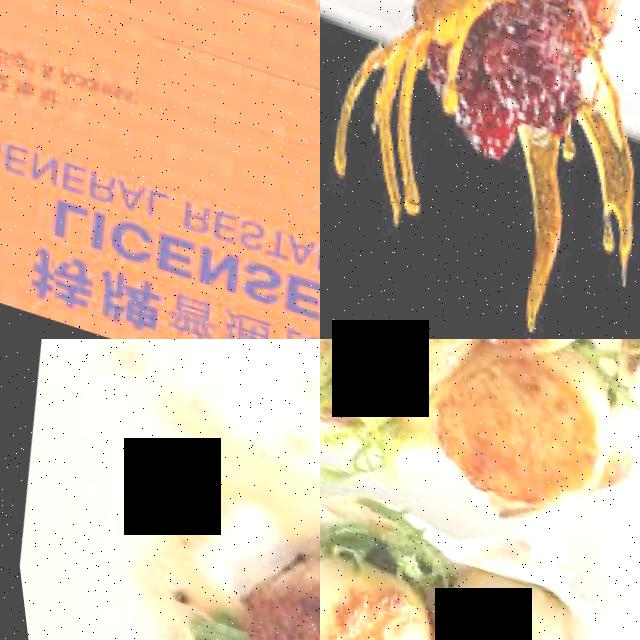sea scallops: (219, 481, 320, 640)
spinach: (406, 339, 618, 518), (395, 545, 574, 640), (320, 537, 424, 640), (320, 339, 457, 393)
